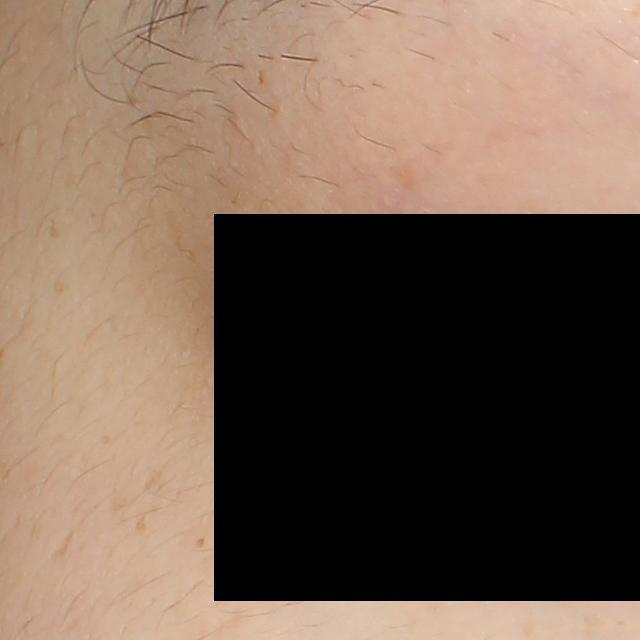melasma: (48, 529, 76, 562), (141, 465, 167, 496), (133, 512, 148, 533), (195, 533, 207, 550)
